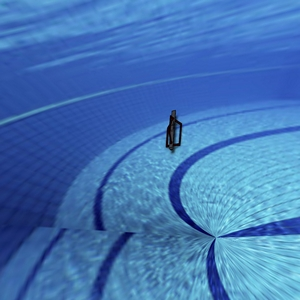submarine: (147, 101, 199, 166)
